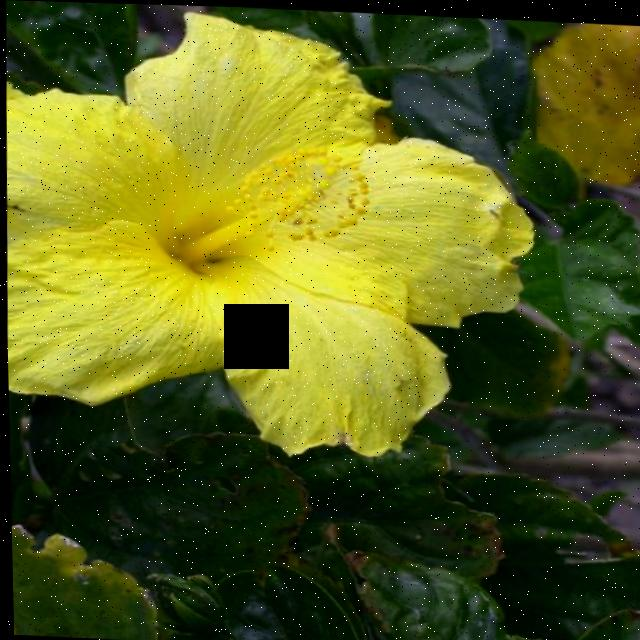hibiscus: (0, 0, 568, 503)
